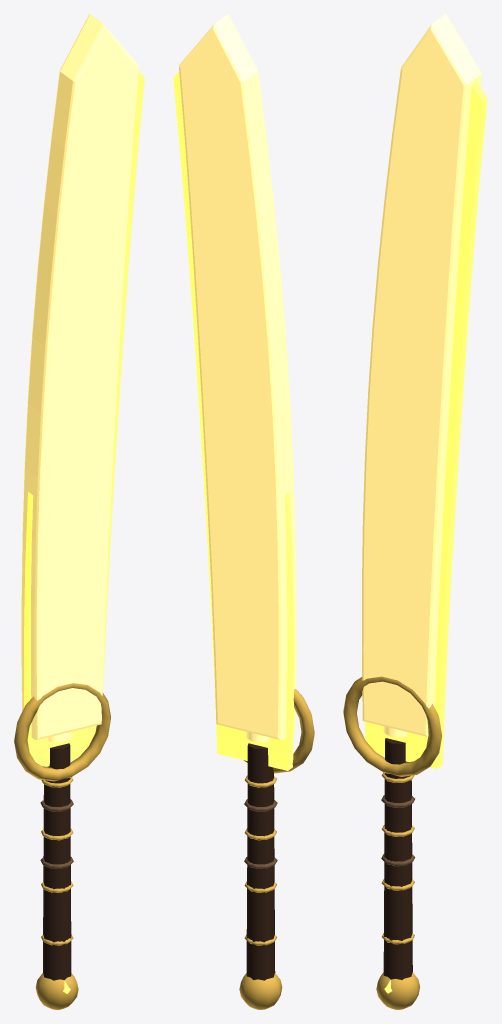
The model's file is greatsword_f4_374d6cf.glb.
3 views of the same model, side by side, from view 1: azimuth 30°, elevation 25°; view 2: azimuth 150°, elevation 25°; view 3: azimuth 330°, elevation 25° (orthographic).
Parts seen in each view (by area): view 1: m4_ow80_, m2_ow80_, m0_gm110_, m5_ow80_, m6_ow80_; view 2: m4_ow80_, m0_gm110_, m2_ow80_, m5_ow80_, m6_ow80_; view 3: m4_ow80_, m0_gm110_, m2_ow80_, m5_ow80_, m6_ow80_.
Boxes of the visible parts, x1,y1,x2,y2 form: m4_ow80_: (21,14,138,742); m2_ow80_: (43,743,71,980); m0_gm110_: (24,72,144,766); m5_ow80_: (14,683,110,1009); m6_ow80_: (40,799,73,868); m4_ow80_: (179,14,296,742); m0_gm110_: (173,72,293,770); m2_ow80_: (246,743,275,980); m5_ow80_: (239,689,314,1009); m6_ow80_: (244,799,277,868); m4_ow80_: (362,14,481,737); m0_gm110_: (365,82,487,768); m2_ow80_: (383,738,412,979); m5_ow80_: (343,676,441,1009); m6_ow80_: (381,795,415,866).
Size of the model in its own units: 0.5372 by 3.76 by 0.1555.
